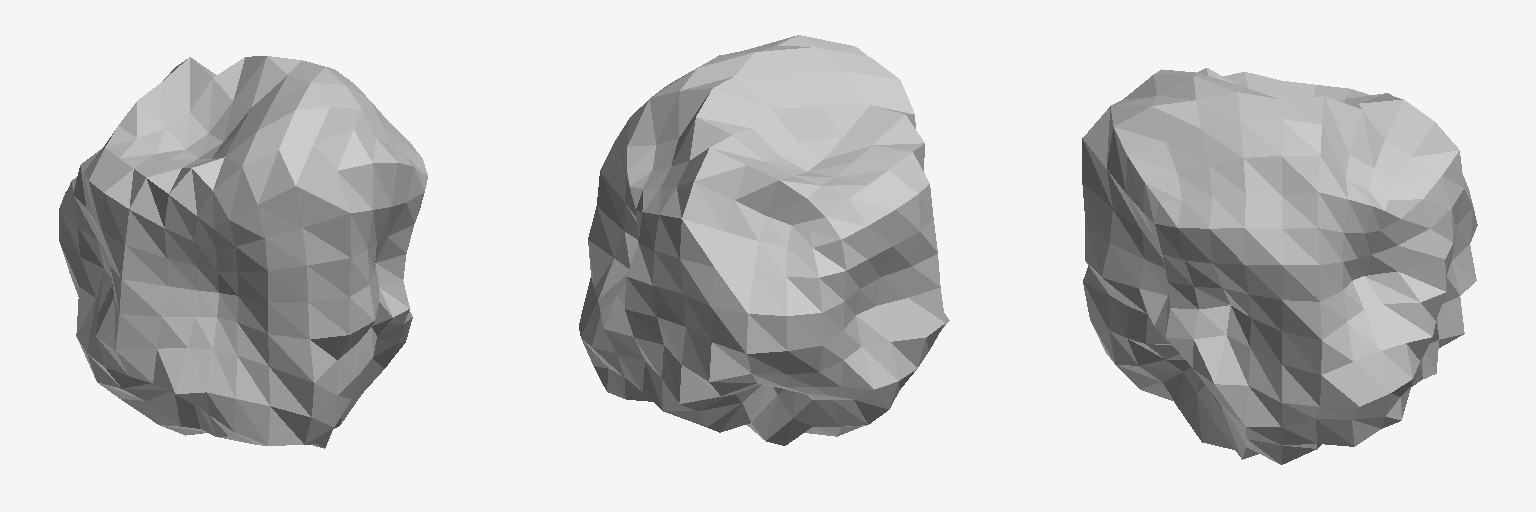
File: Rocks2.obj
The picture shows the model from 3 angles: view 1: azimuth 30°, elevation 25°; view 2: azimuth 150°, elevation 25°; view 3: azimuth 270°, elevation 25°; orthographic projection.
Parts seen in each view (by area): view 1: Cube; view 2: Cube; view 3: Cube.
Boxes of the visible parts, x1,y1,x2,y2 form: Cube: [59, 56, 427, 448]; Cube: [579, 35, 949, 445]; Cube: [1082, 68, 1477, 464].
Size of the model in its own units: 3.51 by 3.8 by 3.77.